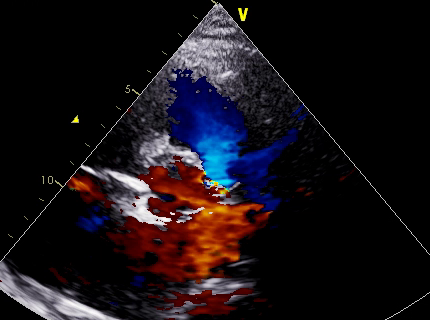TR: (91, 162, 145, 240)
